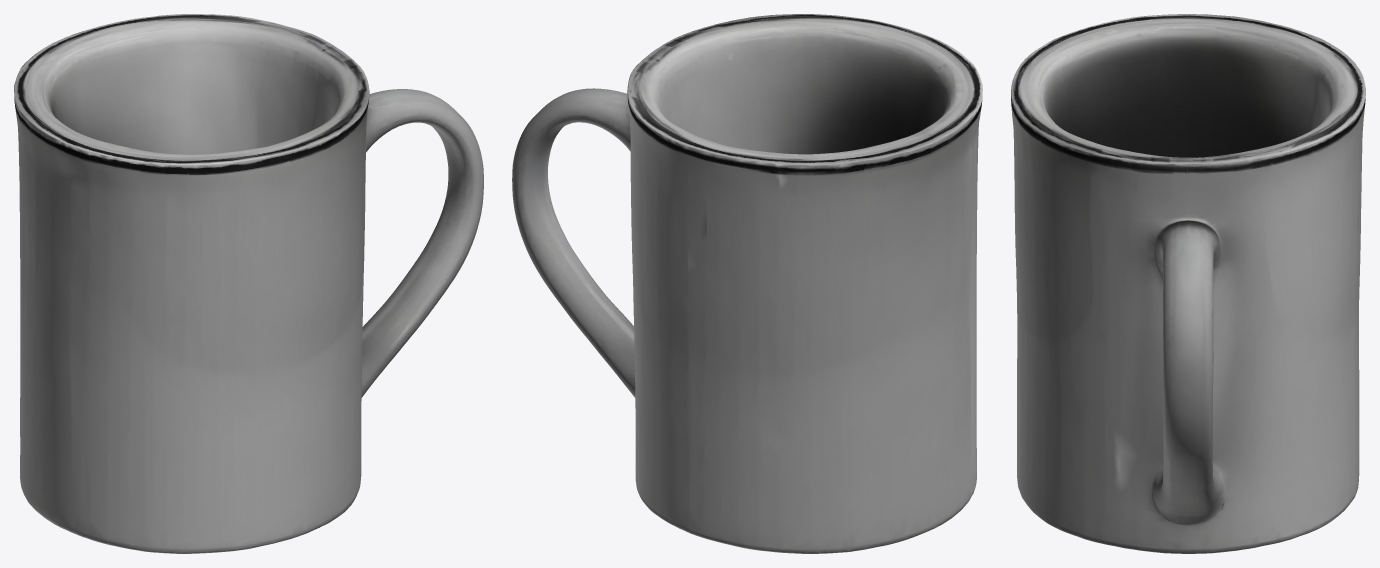
The model's file is asset.glb.
The picture shows the model from 3 angles, left to right: view 1: azimuth 30°, elevation 25°; view 2: azimuth 150°, elevation 25°; view 3: azimuth 270°, elevation 25°; orthographic projection.
Parts seen in each view (by area): view 1: world; view 2: world; view 3: world.
Part boxes in pixels (x1,y1,x2,y2): world: (14, 14, 483, 553); world: (512, 14, 982, 553); world: (1011, 14, 1365, 553).
Bounding box in the file's own units: 0.9988 × 0.8552 × 0.692.
1 material, 1 textured.
